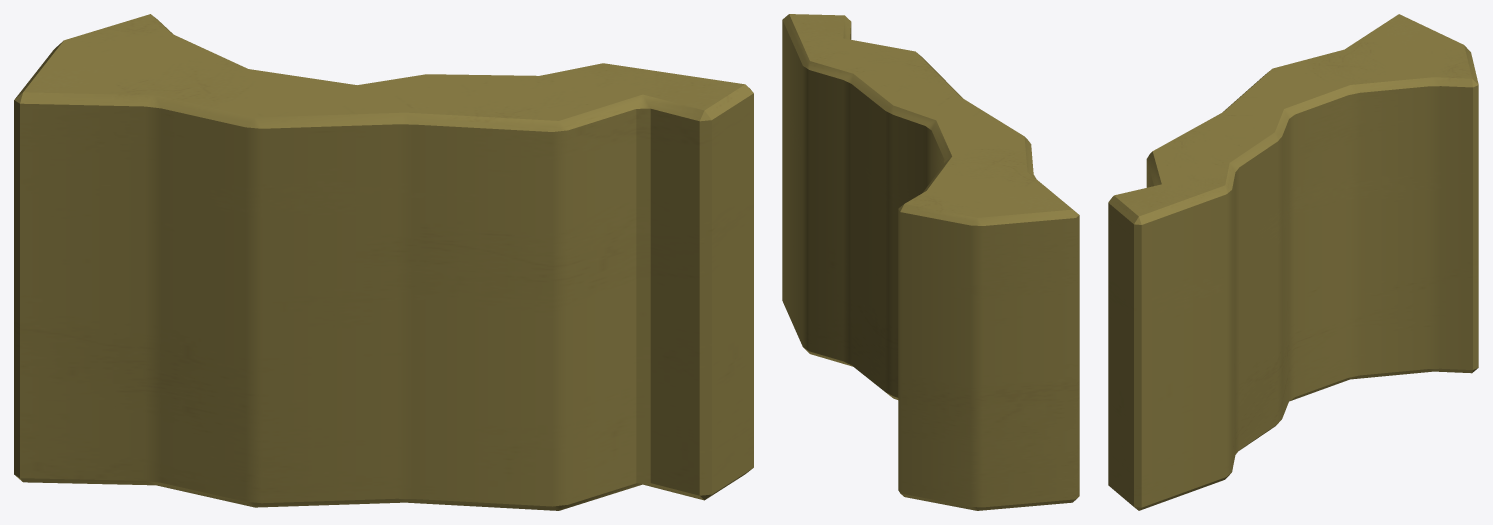
File: spanisharea.DAE
The picture shows the model from 3 angles, left to right: view 1: azimuth 30°, elevation 25°; view 2: azimuth 150°, elevation 25°; view 3: azimuth 270°, elevation 25°; orthographic projection. The views are drawn at different scales.
Visible parts, largest first — view 1: SpanishArea; view 2: SpanishArea; view 3: SpanishArea.
Boxes of the visible parts, box(x1,y1,x2,y2) form: SpanishArea: box(14, 14, 753, 510); SpanishArea: box(782, 14, 1079, 510); SpanishArea: box(1108, 14, 1478, 510).
Size of the model in its own units: 37.81 by 28.52 by 25.
Materials: 1 (1 with a texture image).
